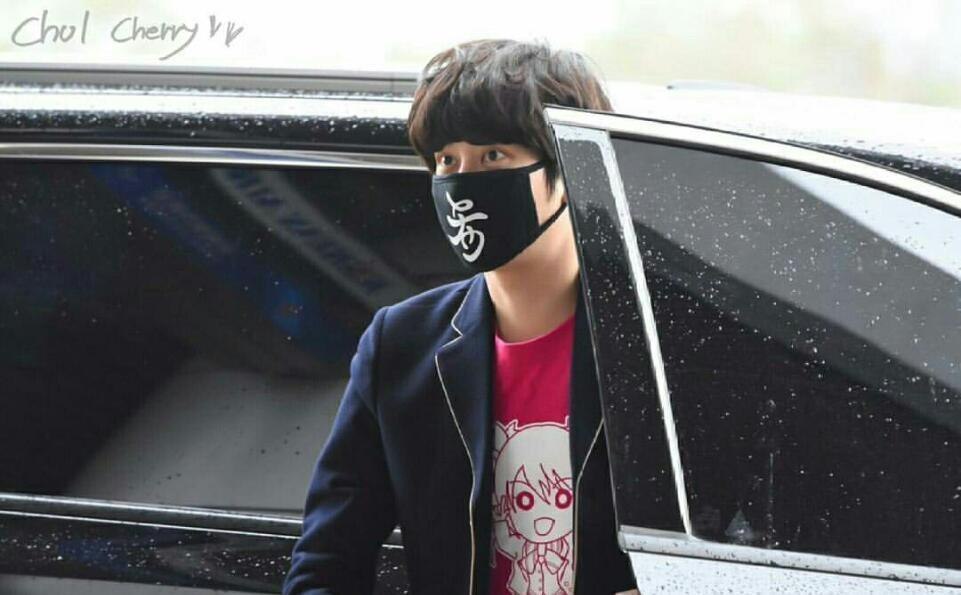OK: (426, 134, 565, 273)
